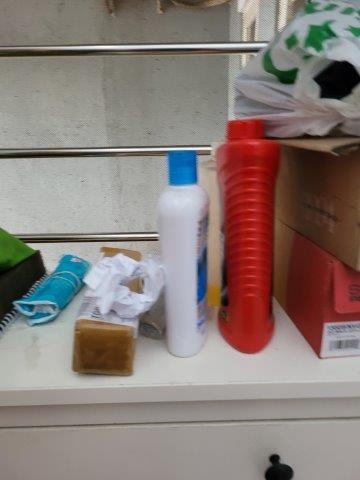kertas: (90, 251, 163, 316)
plastik: (214, 3, 360, 136)
